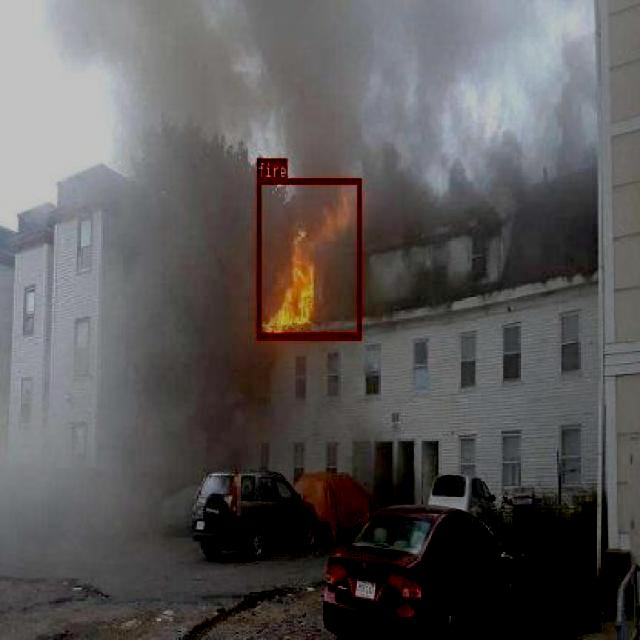fire: (256, 178, 361, 338)
